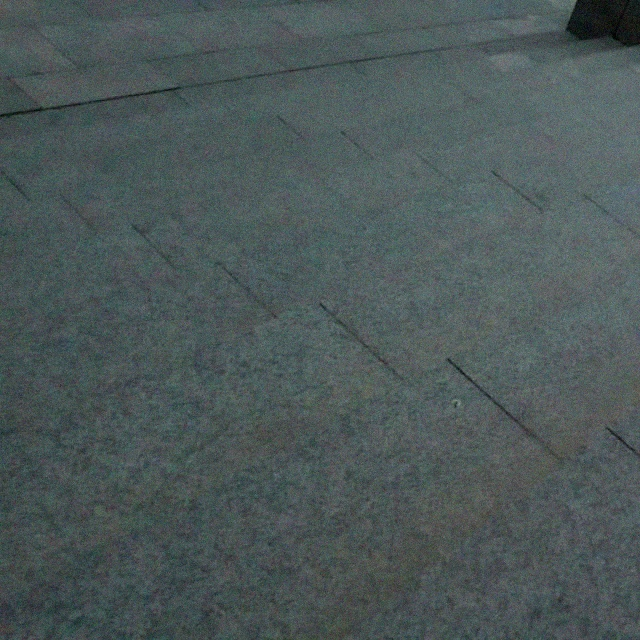stair: (41, 135, 640, 640)
